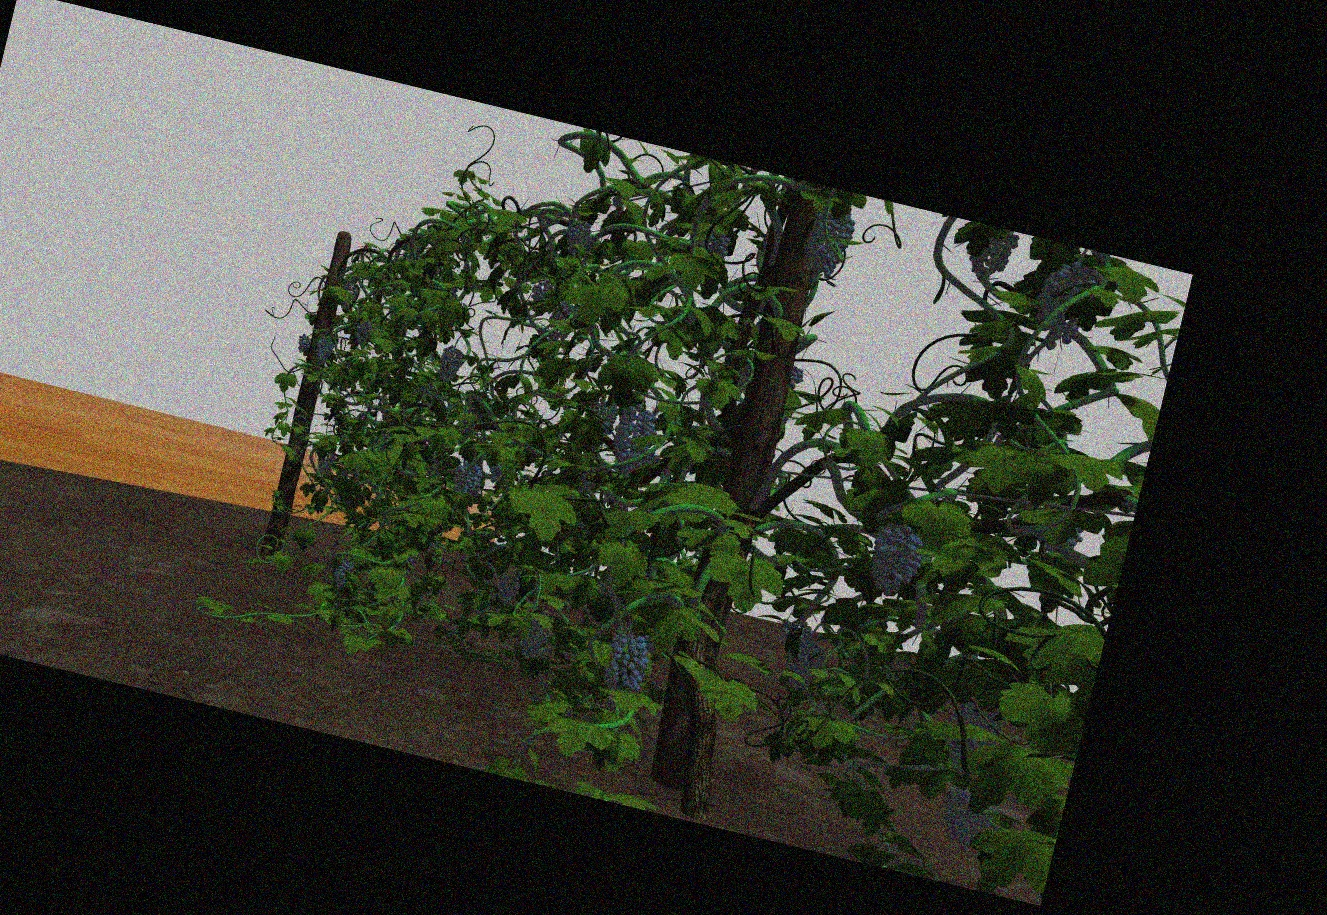grape: (1037, 259, 1093, 353), (869, 524, 922, 596), (939, 786, 992, 849), (805, 211, 849, 282), (612, 404, 654, 478), (967, 229, 1015, 280), (608, 632, 649, 687), (781, 642, 824, 691), (518, 618, 548, 660), (453, 459, 482, 498), (437, 345, 464, 385), (569, 221, 592, 258), (495, 571, 520, 605), (331, 559, 351, 592), (314, 336, 334, 366), (708, 232, 730, 256), (531, 278, 553, 303), (340, 281, 358, 310), (316, 452, 335, 477), (354, 319, 372, 344), (297, 332, 311, 353)
